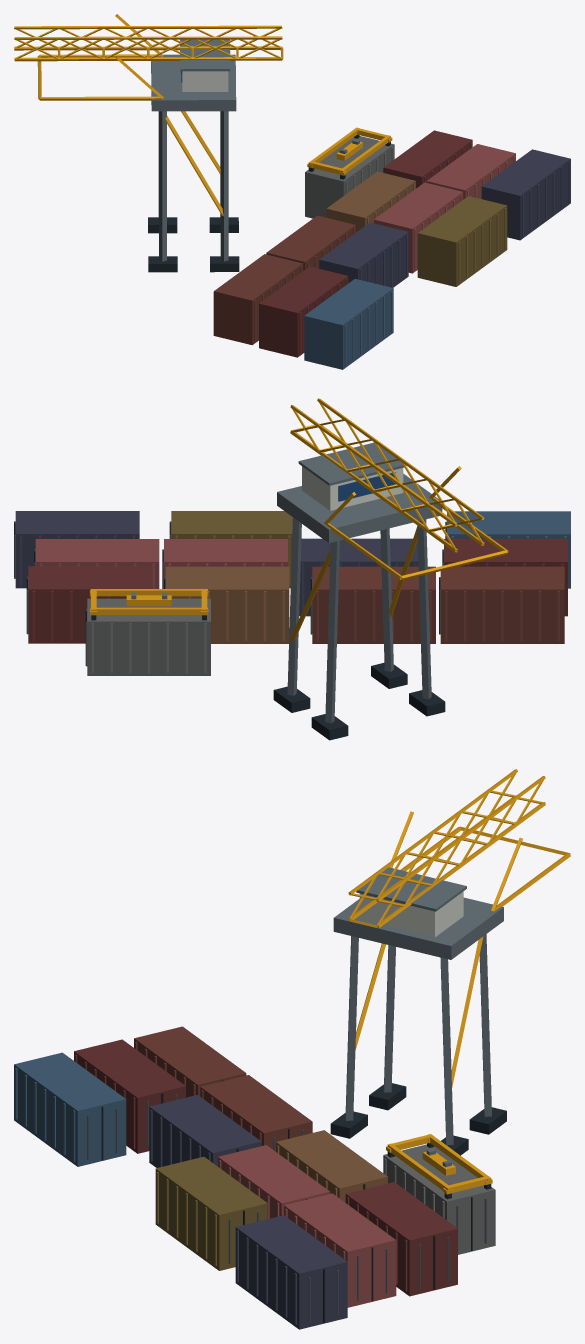
Rendered from gantry-crane-ne-sw-07.glb.
3 views of the same model, one above another, from view 1: azimuth 30°, elevation 25°; view 2: azimuth 150°, elevation 25°; view 3: azimuth 270°, elevation 25° (orthographic). The views are drawn at different scales.
Parts seen in each view (by area): view 1: gantry-crane-ne-sw-07; view 2: gantry-crane-ne-sw-07; view 3: gantry-crane-ne-sw-07.
Boxes of the visible parts, x1,y1,x2,y2 form: gantry-crane-ne-sw-07: (14,14,570,369); gantry-crane-ne-sw-07: (14,398,570,740); gantry-crane-ne-sw-07: (14,769,570,1329).
Bounding box in the file's own units: 70.62 × 31.18 × 57.68.
